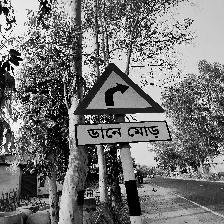Right-turn: (72, 63, 171, 147)
